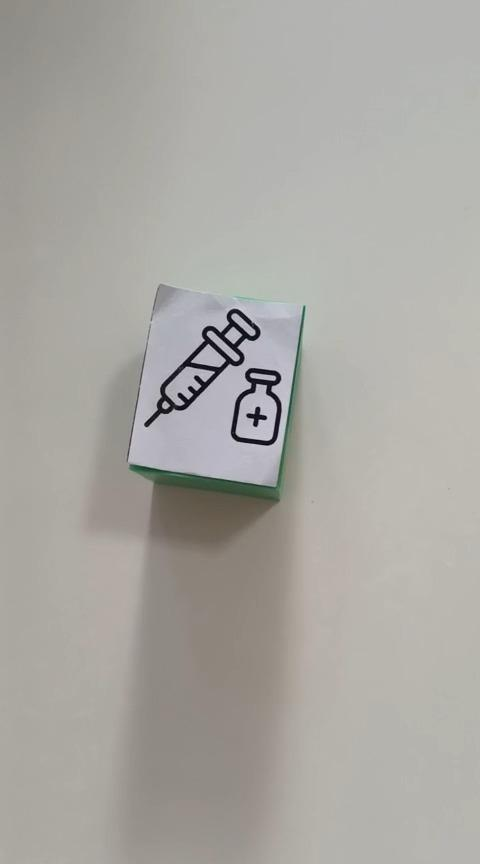antiseptic cream: (125, 282, 306, 501)
